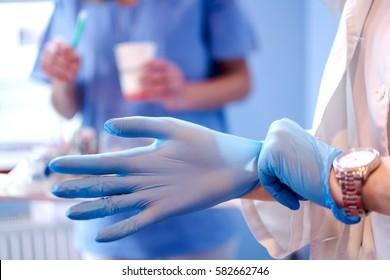gloves: (48, 115, 262, 243), (257, 117, 361, 225)
